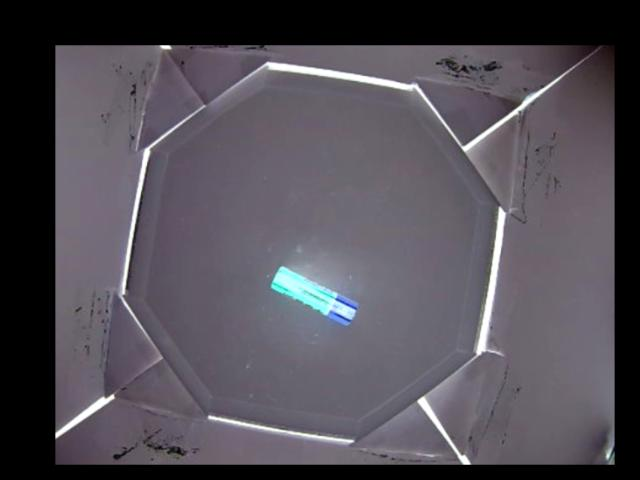Battery: (268, 264, 359, 325)
